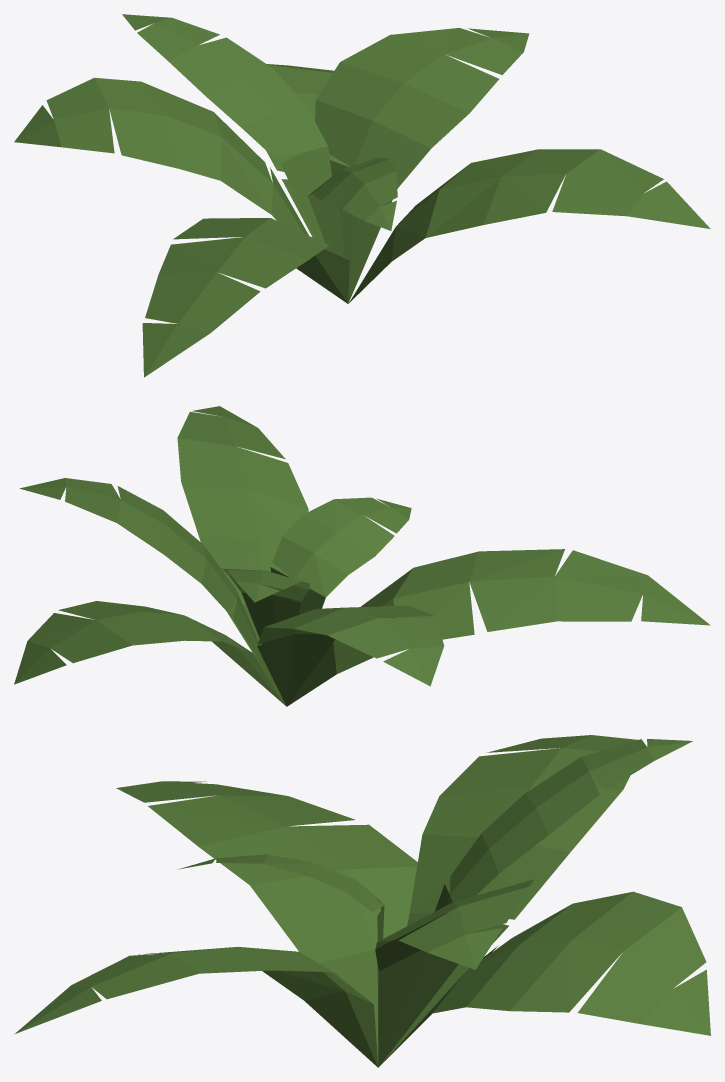
Rendered from Plant_13.fbx.
3 renders of one model, top to bottom at view 1: azimuth 30°, elevation 25°; view 2: azimuth 150°, elevation 25°; view 3: azimuth 270°, elevation 25°, orthographic. The views are drawn at different scales.
Parts seen in each view (by area): view 1: Plant_13; view 2: Plant_13; view 3: Plant_13.
Boxes of the visible parts, bbox=[...] form: Plant_13: bbox=[14, 14, 710, 377]; Plant_13: bbox=[14, 406, 710, 706]; Plant_13: bbox=[14, 735, 710, 1067].
Bounding box in the file's own units: 1.29 × 0.516 × 1.2.
